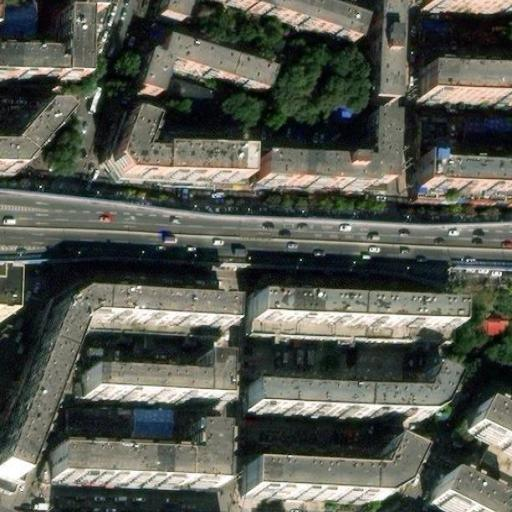building: (0, 303, 220, 484), (243, 440, 413, 497), (44, 427, 213, 482), (249, 367, 448, 413), (113, 112, 244, 175), (157, 18, 276, 87), (249, 294, 454, 327), (76, 360, 214, 401), (252, 148, 366, 181), (422, 60, 512, 94), (423, 474, 503, 512), (459, 402, 512, 456), (418, 159, 512, 189), (59, 406, 131, 440), (55, 17, 84, 83), (414, 113, 454, 158), (128, 405, 173, 442), (162, 76, 214, 106), (134, 42, 170, 85), (461, 116, 512, 138), (0, 262, 19, 316), (482, 315, 510, 336)
